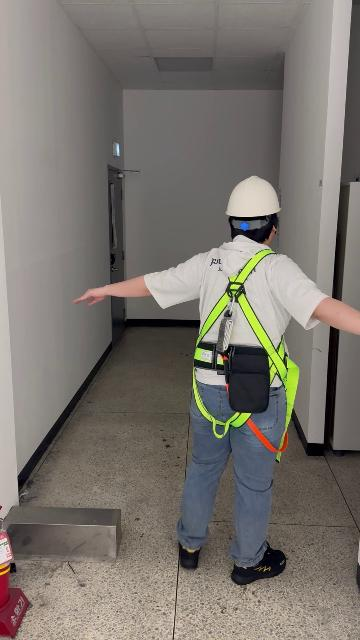helmet_worn: (224, 174, 283, 218)
shoe_worn: (230, 543, 285, 586), (179, 543, 201, 570)
vest_worn: (190, 252, 298, 447)
